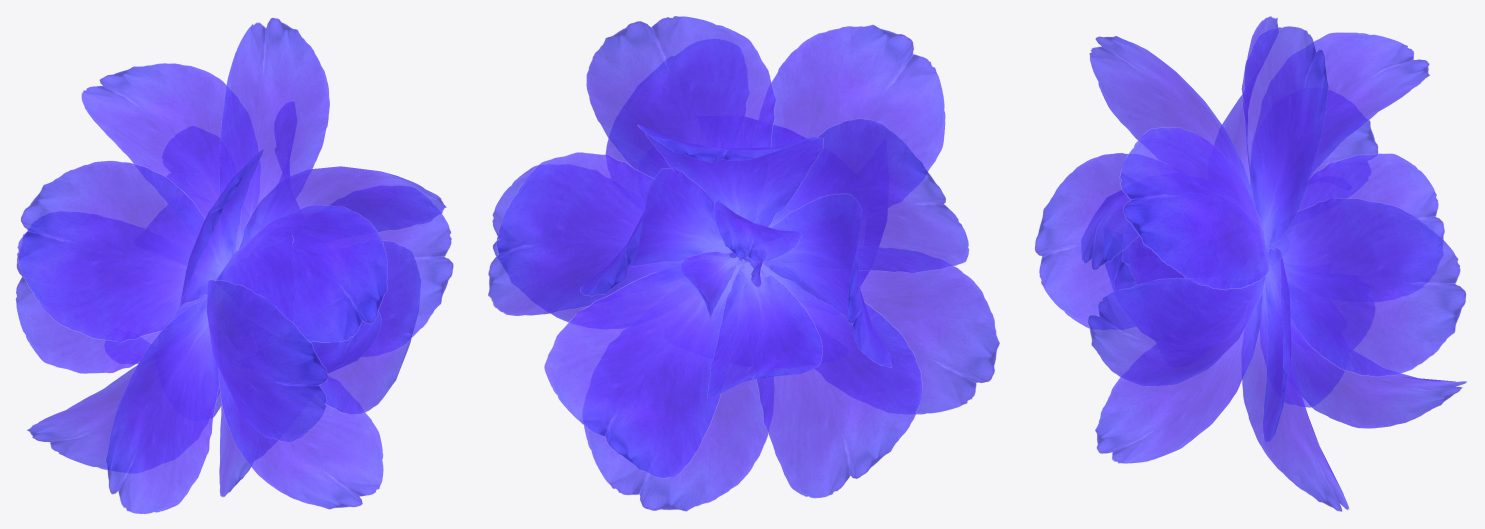
Rendered from flower -blue.glb.
3 views of the same model, side by side, from view 1: azimuth 30°, elevation 25°; view 2: azimuth 150°, elevation 25°; view 3: azimuth 270°, elevation 25° (orthographic). The views are drawn at different scales.
Visible parts, largest first — view 1: timeshift4; view 2: timeshift4; view 3: timeshift4.
Part boxes in pixels (x1,y1,x2,y2): timeshift4: (15,17,453,514); timeshift4: (488,16,999,511); timeshift4: (1035,16,1466,511).
Size of the model in its own units: 6.04 by 6.09 by 4.99.
Materials: 1 (1 with a texture image).
